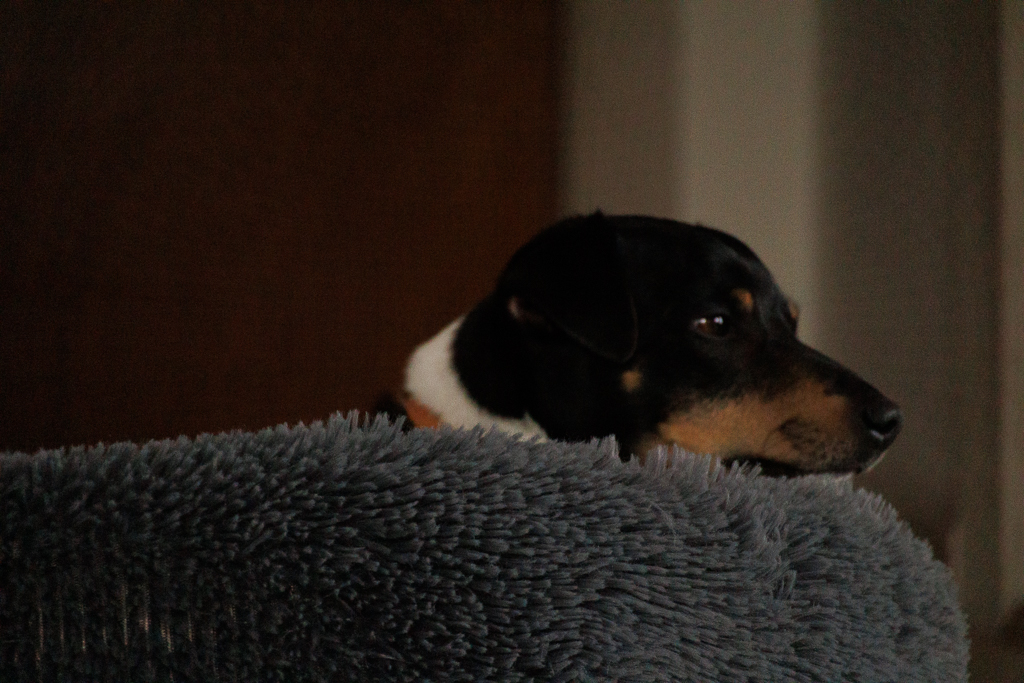Dog: (299, 202, 915, 518)
